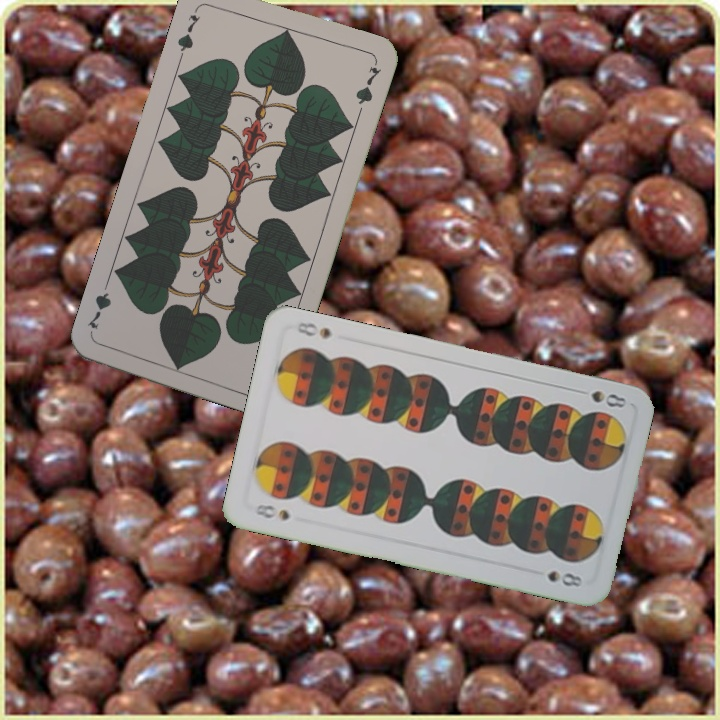G7: (173, 2, 203, 60)
S8: (571, 385, 630, 411), (249, 500, 293, 524)
